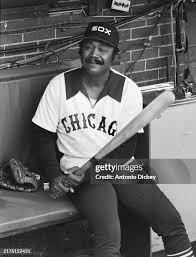baseball bat: (50, 88, 176, 199)
